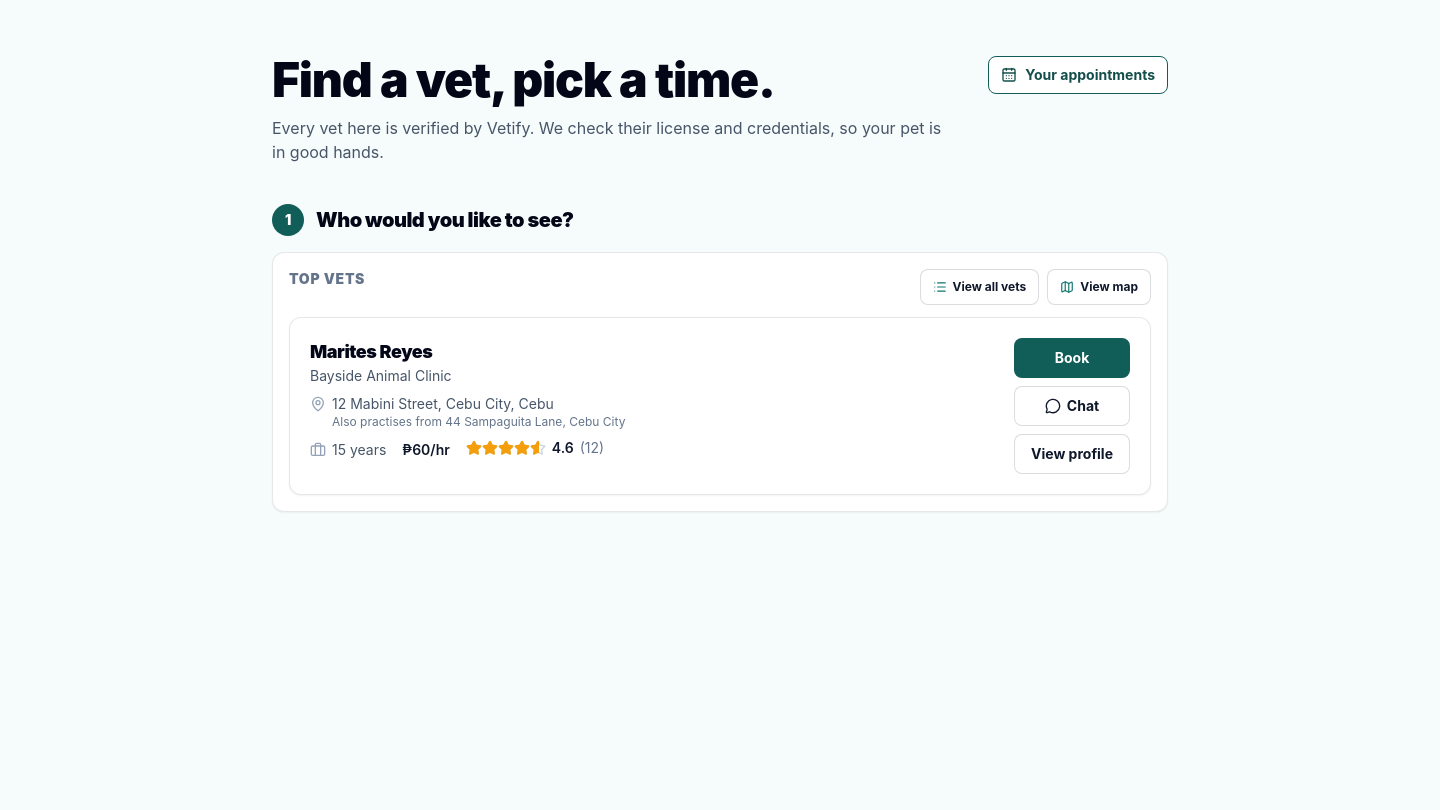
it: the booking flow › will not let a taken slot be clicked
Step 1. Click the button "Book" → [1072, 358], box [1014,338,1130,378]
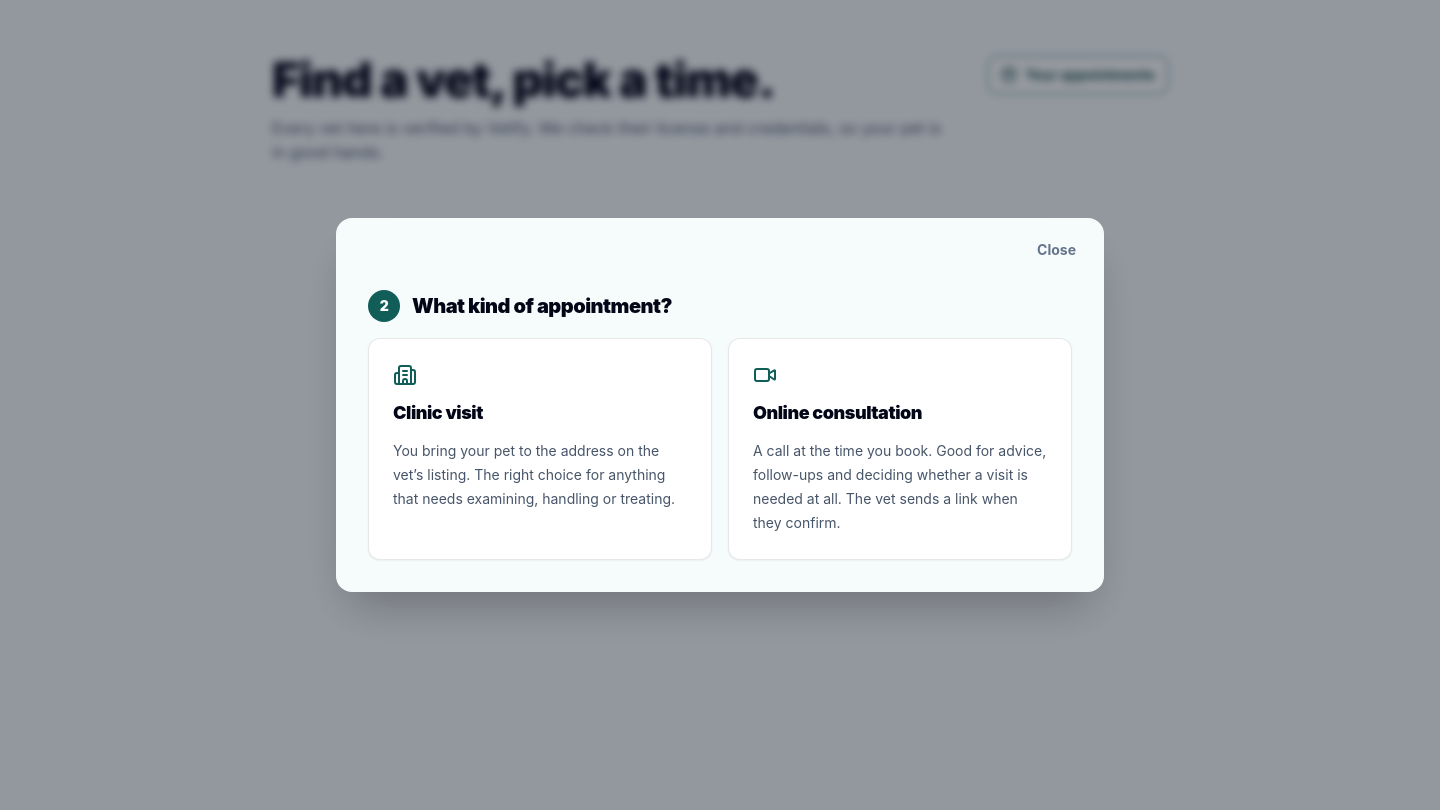
Step 2. Click the button "Clinic visit" → [540, 449], box [368,338,712,560]
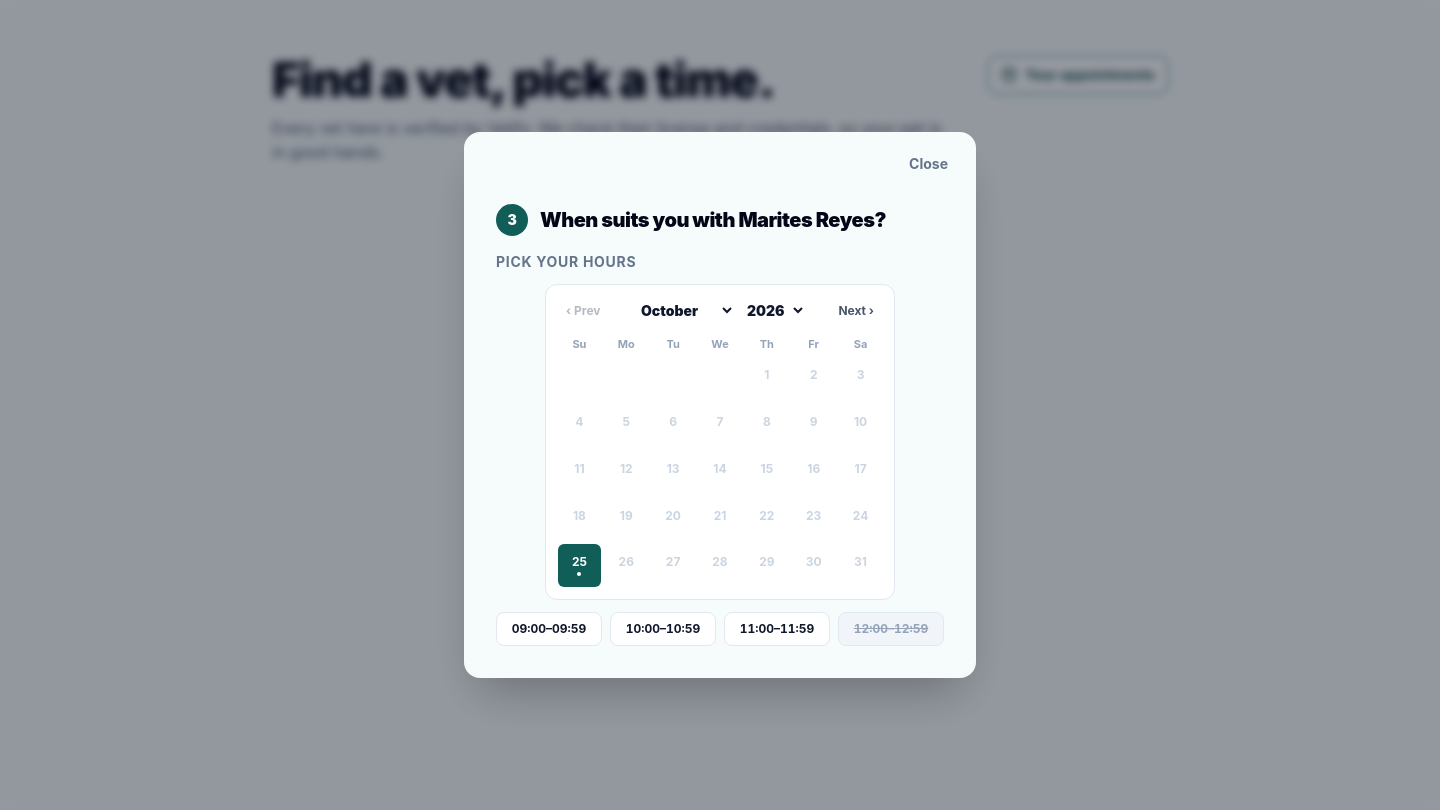
Check: the button named "taken" is disabled, box [838,612,944,646]
